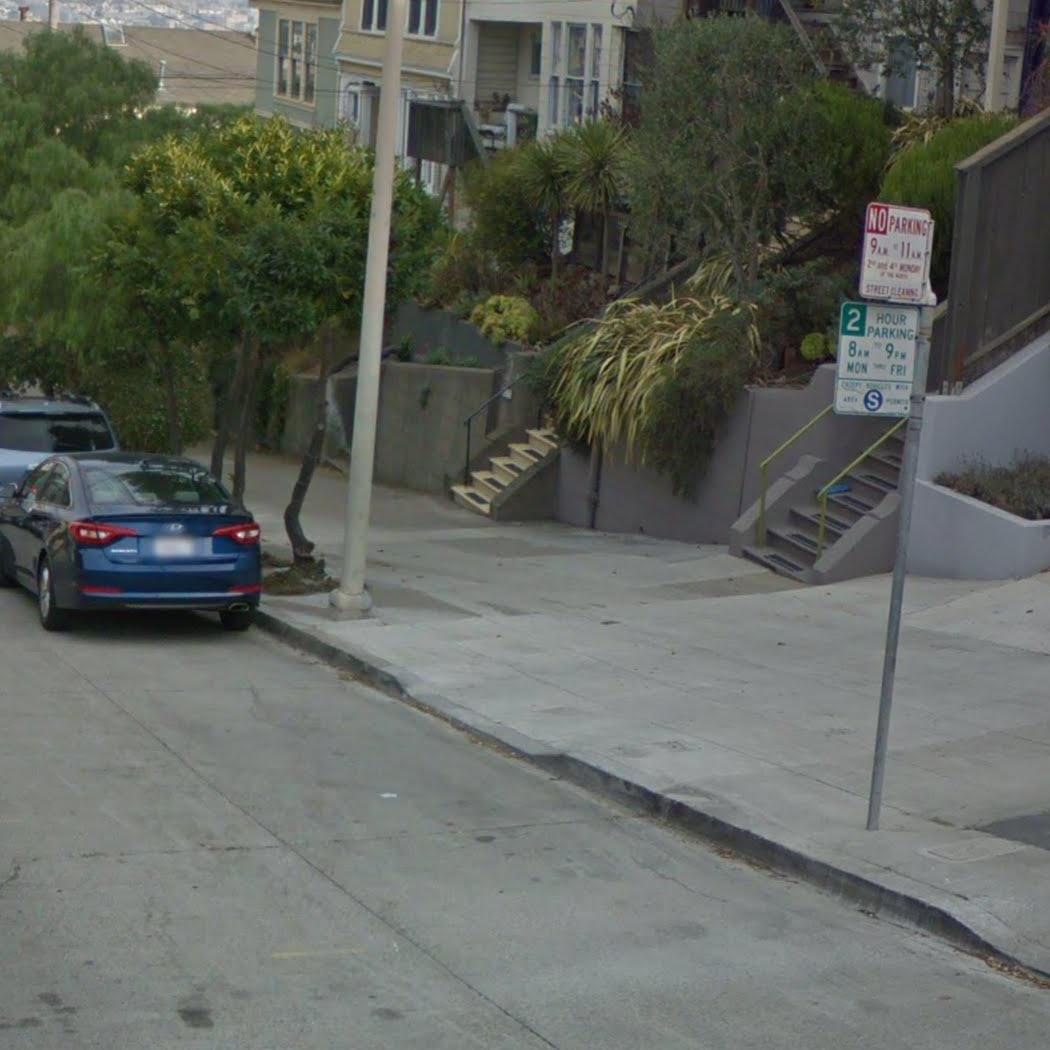2 Hour Parking: (829, 297, 924, 430)
No Parking: (857, 198, 935, 298)
